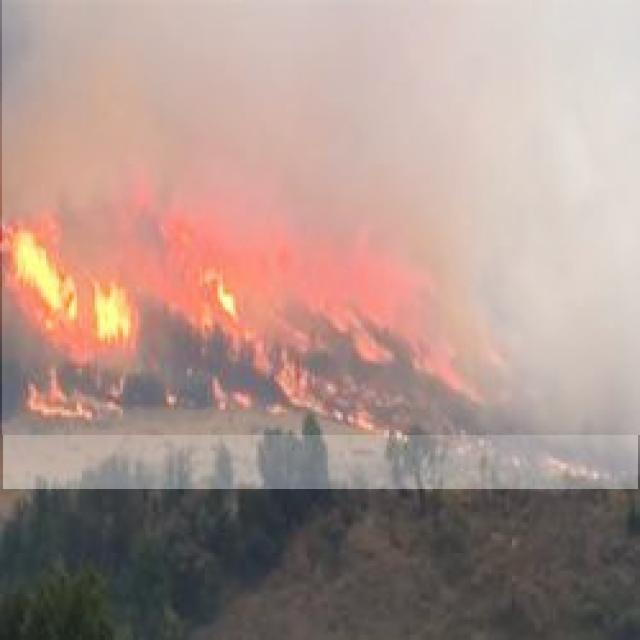Fire: (3, 208, 638, 489)
Smoke: (2, 0, 640, 435)
